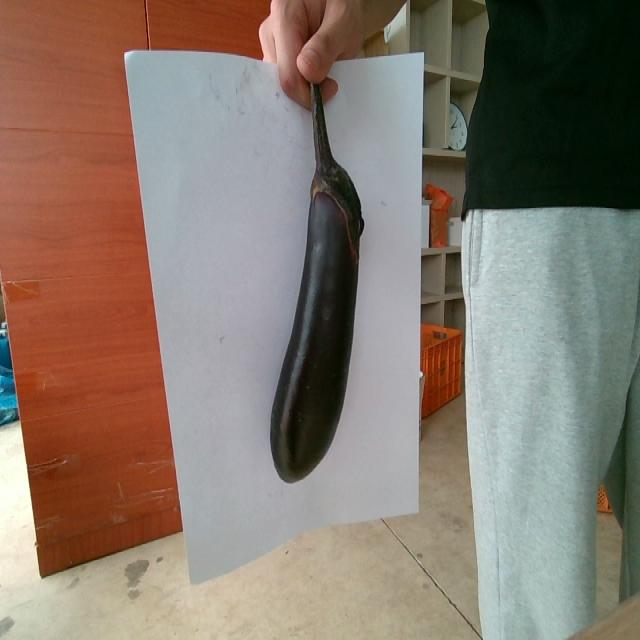Egg plant: (270, 84, 363, 481)
